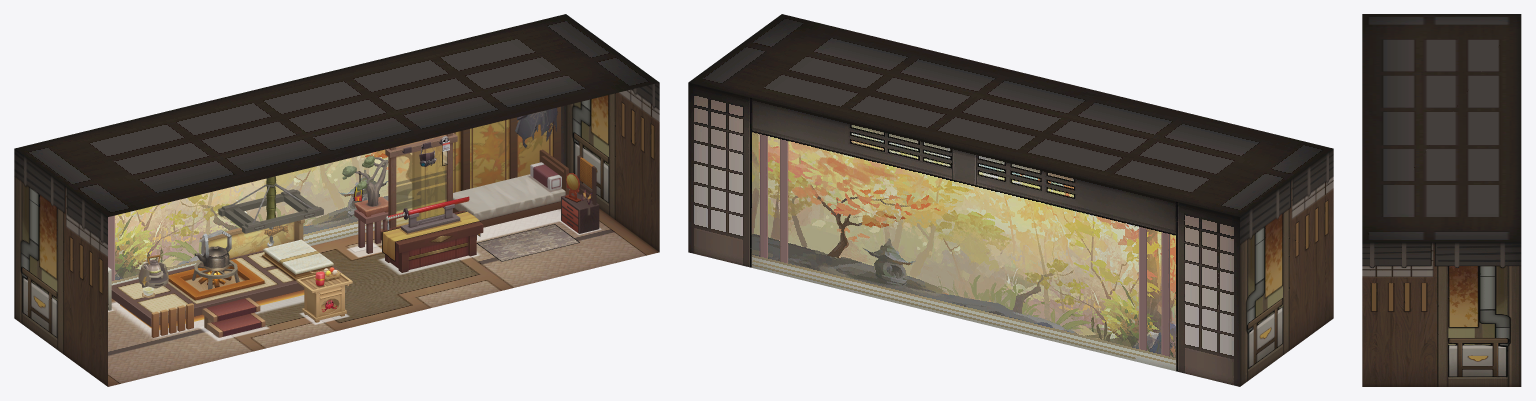
The model's file is eastern.glb.
3 renders of one model, left to right at view 1: azimuth 30°, elevation 25°; view 2: azimuth 150°, elevation 25°; view 3: azimuth 270°, elevation 25°, orthographic. The views are drawn at different scales.
Visible parts, largest first — view 1: ROOM_room, ROOM_floor, furni_eastern_tatami_01, furni_eastern_leafScreen_02, furni_eastern_JapaneseScreen_01, furni_eastern_bed_01, furni_eastern_JapaneseScreen_02, furni_eastern_sling_01, furni_eastern_plant_01, furni_eastern_leafScreen_01, furni_eastern_carpet_01, furni_eastern_case_01 (+8 smaller); view 2: ROOM_room, ROOM_LDoor; view 3: ROOM_room, ROOM_RDoor.
Part boxes in pixels (x1=…): ROOM_room: x1=14, y1=14, x2=659, y2=386; ROOM_floor: x1=108, y1=189, x2=659, y2=386; furni_eastern_tatami_01: x1=111, y1=219, x2=341, y2=337; furni_eastern_leafScreen_02: x1=421, y1=107, x2=557, y2=219; furni_eastern_JapaneseScreen_01: x1=380, y1=133, x2=483, y2=272; furni_eastern_bed_01: x1=453, y1=149, x2=568, y2=239; furni_eastern_JapaneseScreen_02: x1=396, y1=135, x2=447, y2=226; furni_eastern_sling_01: x1=218, y1=176, x2=323, y2=246; furni_eastern_plant_01: x1=342, y1=155, x2=388, y2=253; furni_eastern_leafScreen_01: x1=412, y1=106, x2=560, y2=220; furni_eastern_carpet_01: x1=476, y1=224, x2=579, y2=261; furni_eastern_case_01: x1=296, y1=267, x2=352, y2=322; ROOM_room: x1=688, y1=14, x2=1333, y2=386; ROOM_LDoor: x1=1300, y1=251, x2=1319, y2=341; ROOM_room: x1=1362, y1=14, x2=1521, y2=386; ROOM_RDoor: x1=1385, y1=321, x2=1418, y2=386.
Bounding box in the file's own units: 7.48 × 2.2 × 2.2.
6 materials, 6 textured.
